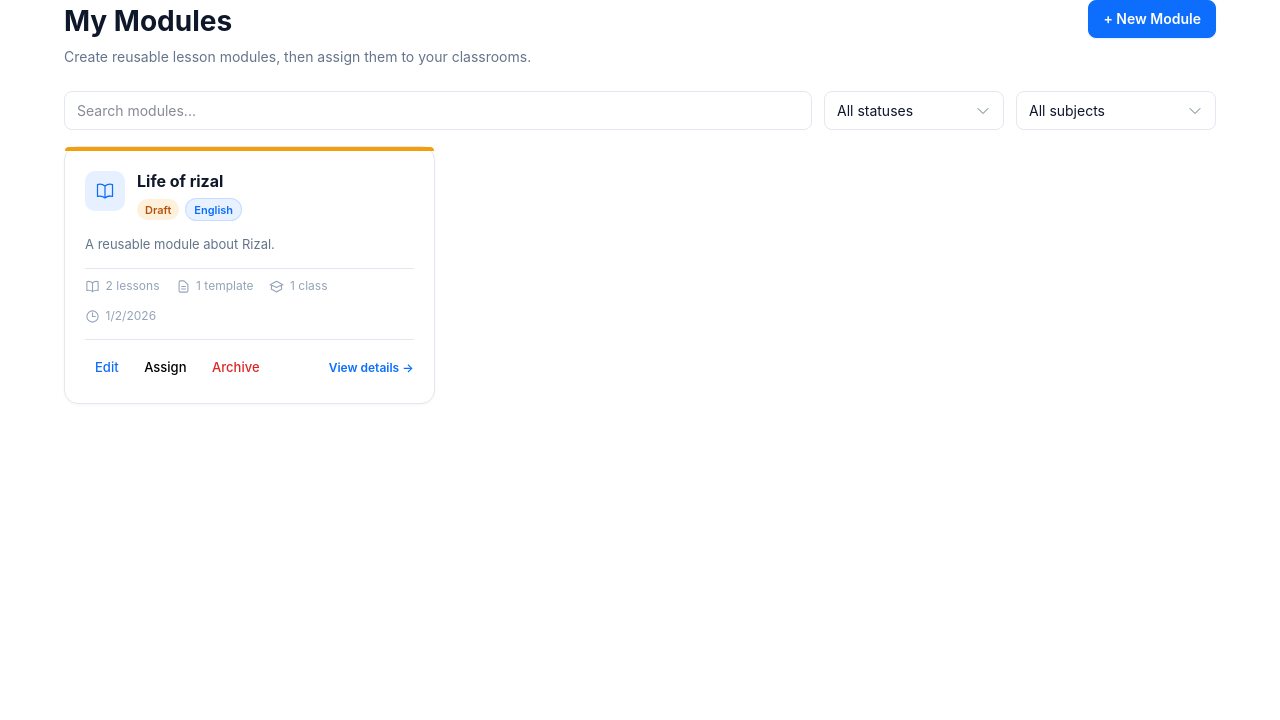
Test: MyModulesPage list › adds an activity template from the module detail view
Click the button with aria-label "Open module Life of rizal".
click(249, 275)  # box [64,146,435,404]
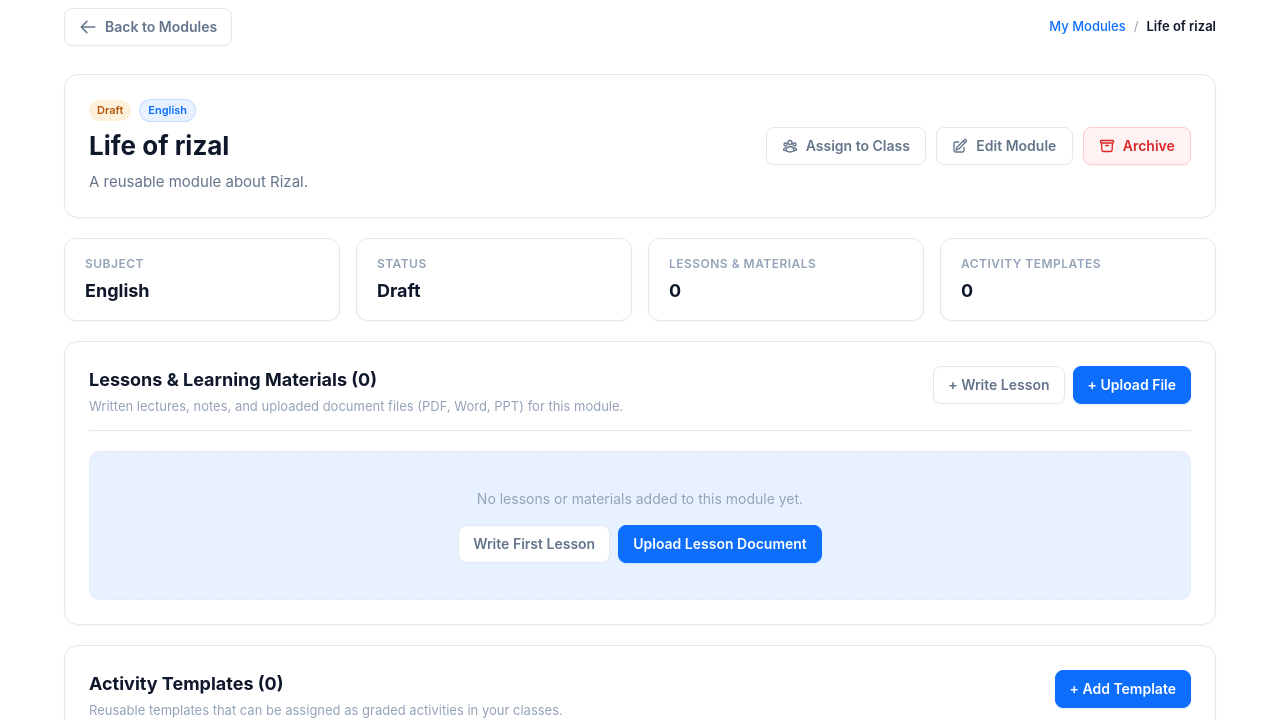
Now the heading "Activity Templates (0)" is shown, box [89,673,284,694]
Click the button "+ Add Template".
click(1123, 689)  # box [1054,670,1191,708]
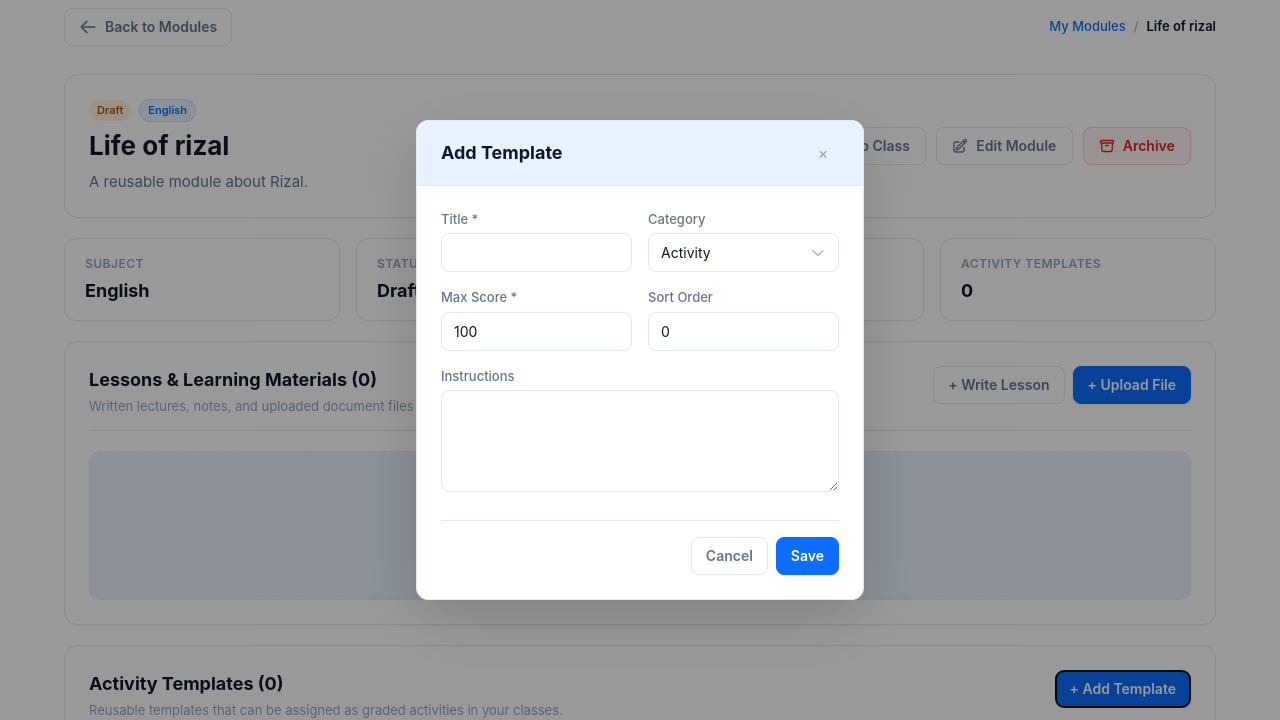
Type "Chapter Quiz" into the field.
click(536, 253); type("Chapter Quiz")  # box [441,233,632,272]
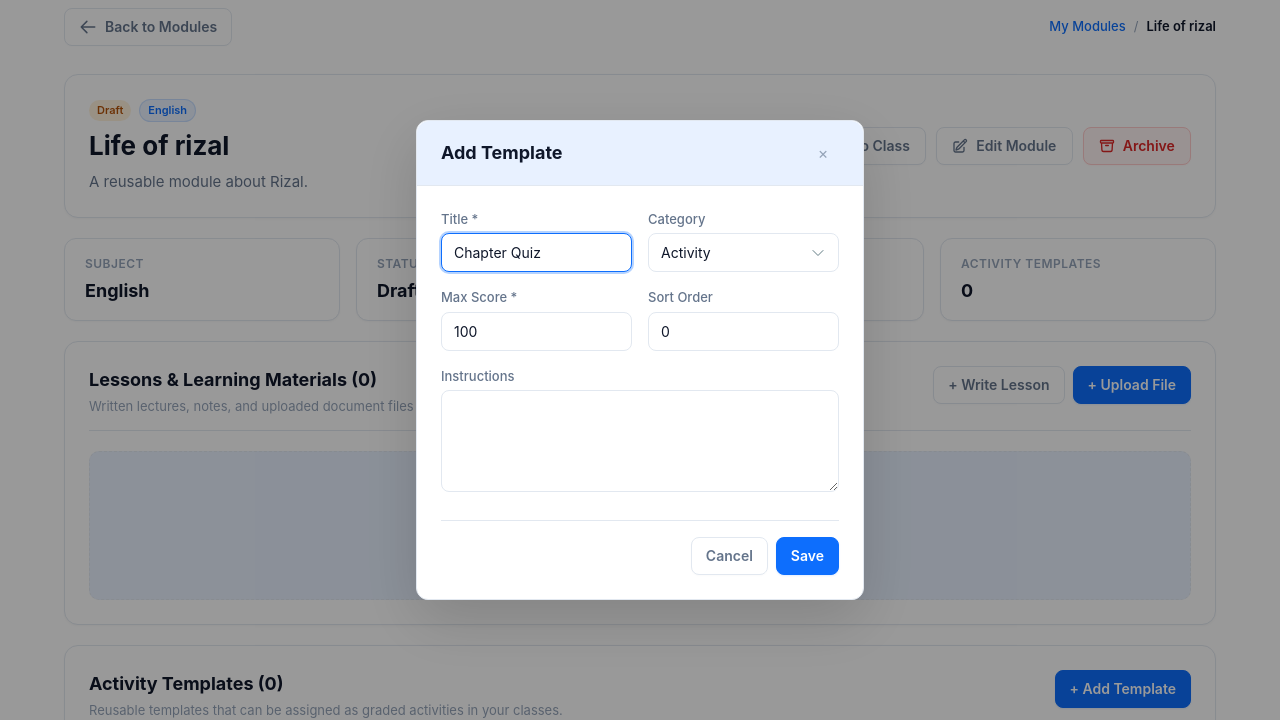
Click the button "Save".
click(807, 556)  # box [776,537,839,575]
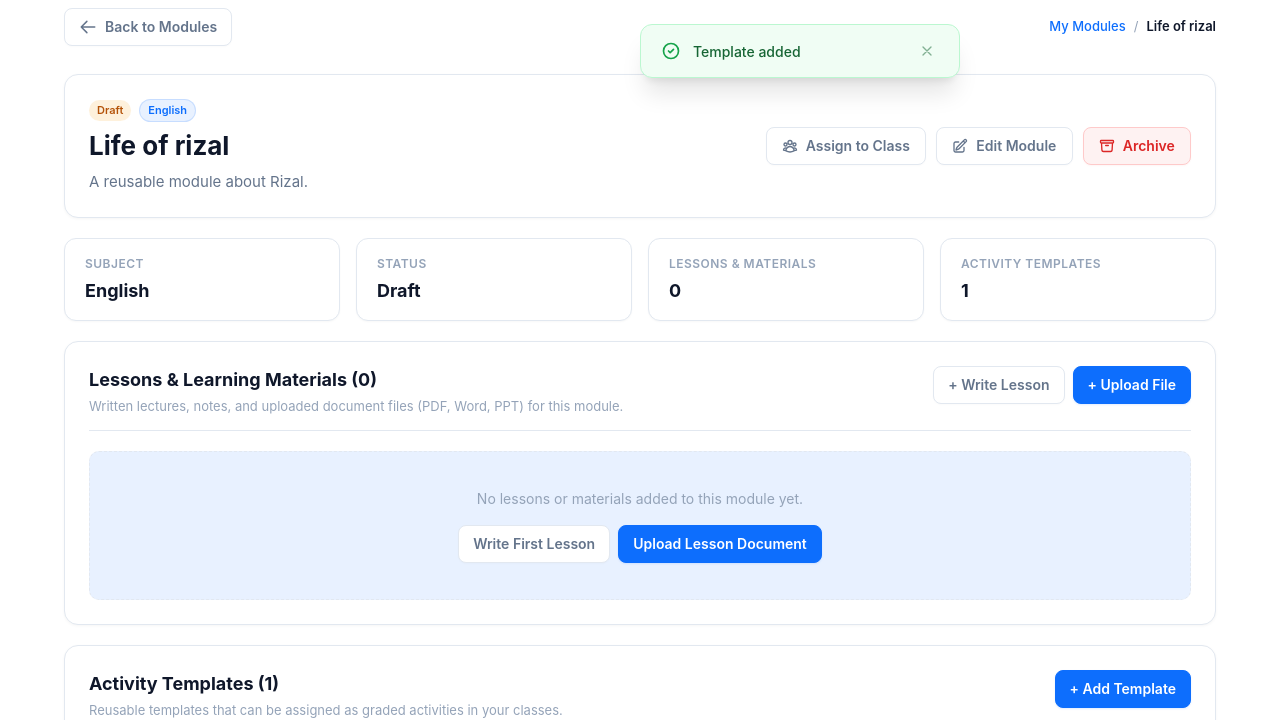
Now the text "Template added" is shown, box [693,42,801,60]
Now the heading "Activity Templates (1)" is shown, box [89,673,279,694]
